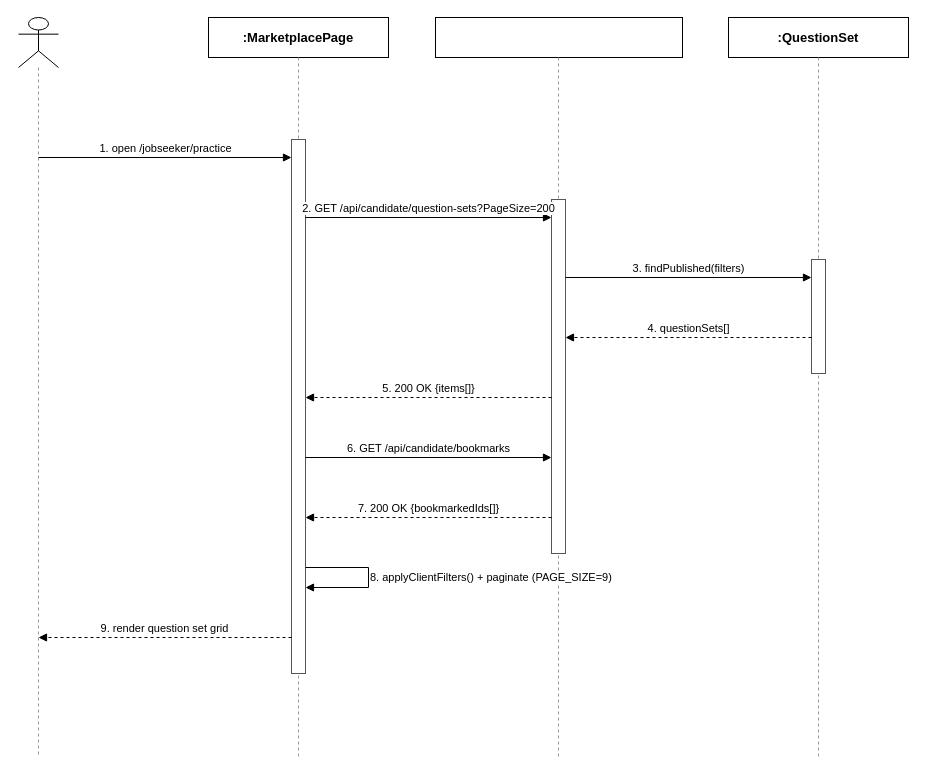
The diagram is 926 pixels wide and 776 high, and some of its shapes have lost their labels. The shapes that lost their labels are listed below. From the top down, each one's centre as x and y in pixels, then its label:
the point at 38,42: Job Seeker
the point at 558,37: :CandidateQuestionSetsController
